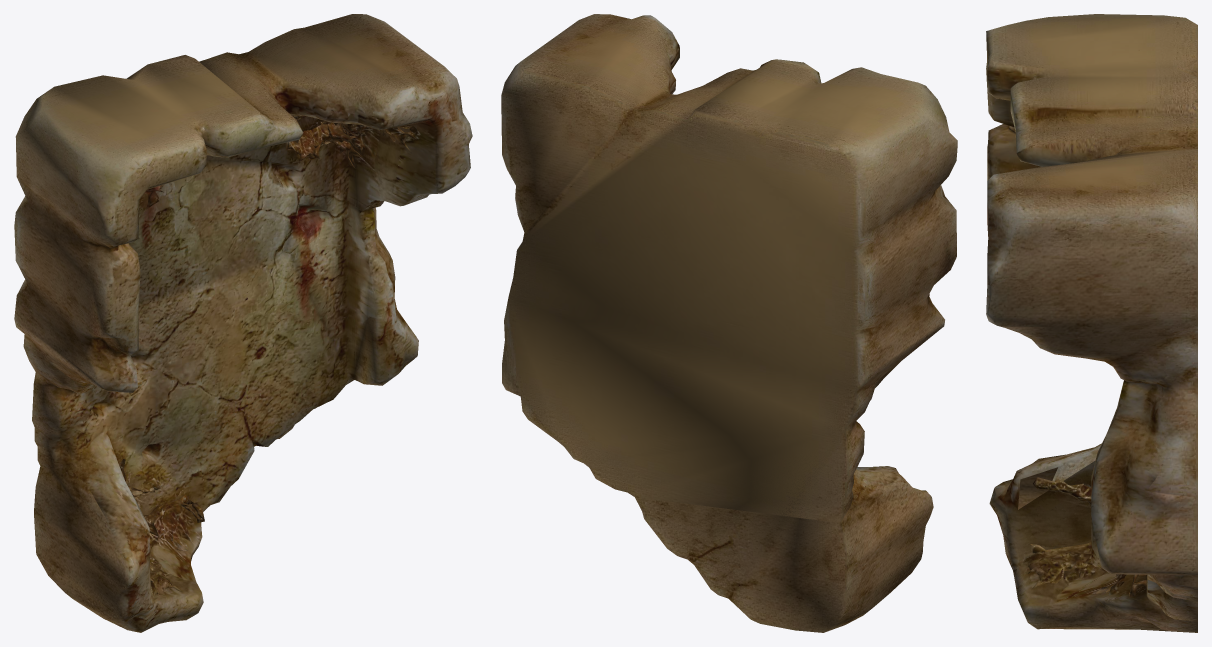
Rendered from selected.glb.
The picture shows the model from 3 angles, left to right: view 1: azimuth 30°, elevation 25°; view 2: azimuth 150°, elevation 25°; view 3: azimuth 270°, elevation 25°; orthographic projection. The views are drawn at different scales.
Visible parts, largest first — view 1: tripo_node_cac4cddc-e14e-4313-94b1-38304c70203b; view 2: tripo_node_cac4cddc-e14e-4313-94b1-38304c70203b; view 3: tripo_node_cac4cddc-e14e-4313-94b1-38304c70203b.
Boxes of the visible parts, <box> form: tripo_node_cac4cddc-e14e-4313-94b1-38304c70203b: <box>14,14,472,632</box>; tripo_node_cac4cddc-e14e-4313-94b1-38304c70203b: <box>501,14,957,632</box>; tripo_node_cac4cddc-e14e-4313-94b1-38304c70203b: <box>986,14,1197,632</box>.
Size of the model in its own units: 0.7754 by 0.998 by 0.3379.
1 material, 1 textured.
